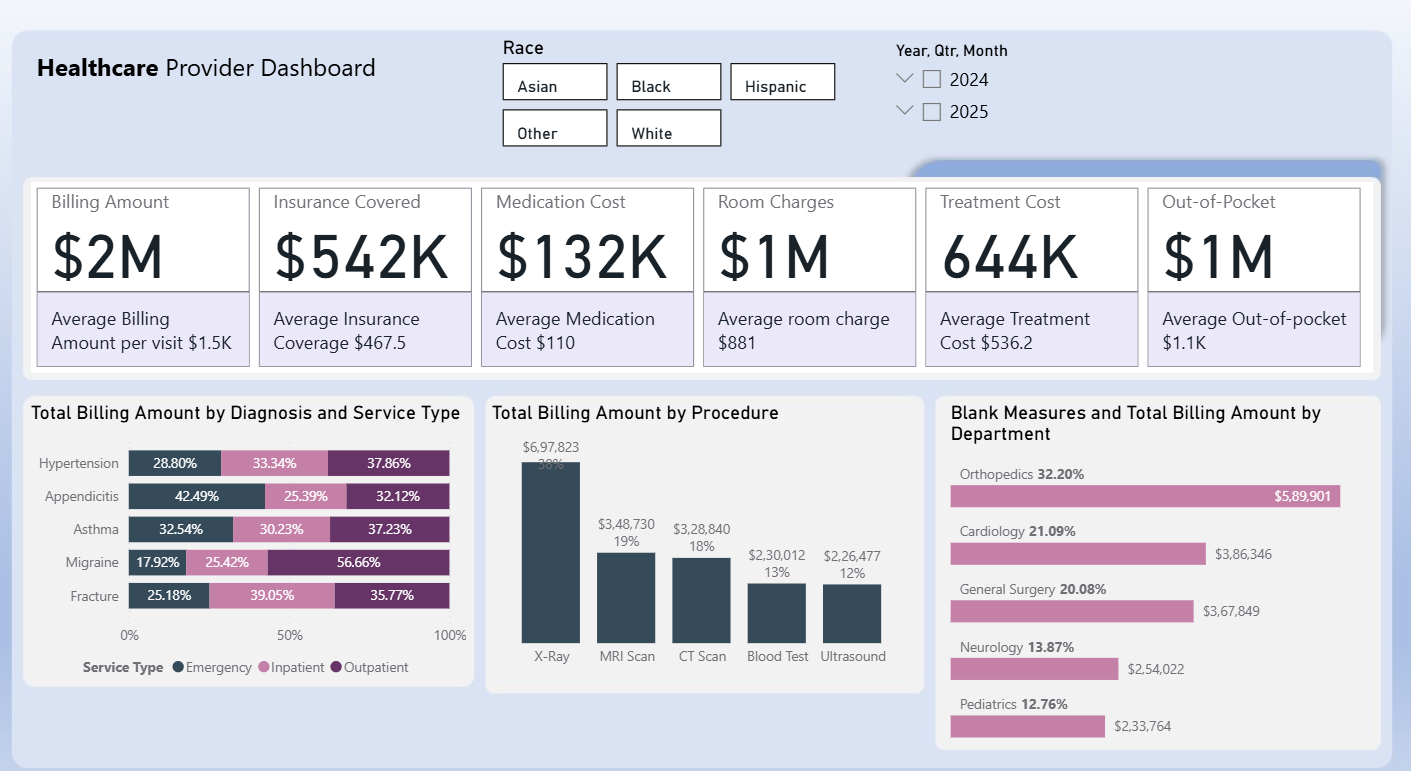

This screenshot's page, from the dashboard's own definition file:
{"tool":"powerbi","page":{"name":"Page 2","canvas":[1280,720],"ordinal":0},"visuals":[{"type":"cardVisual","fields":{"Data":["DAX Calculation.Total Billing Amount","DAX Calculation.Total Insurance Covered","DAX Calculation.Total Medication Cost","DAX Calculation.Total Room Charges","DAX Calculation.Total Treatment Cost","DAX Calculation.Out-of-Pocket"]},"box":[45.2,182.7,1190,169.4],"z":0},{"type":"clusteredColumnChart","fields":{"Category":["procedures.Procedure"],"Y":["DAX Calculation.Total Billing Amount"]},"box":[448.7,376.8,383.9,244.7],"z":1000},{"type":"hundredPercentStackedBarChart","fields":{"Y":["DAX Calculation.Total Billing Amount"],"Category":["diagnoses.Diagnosis"],"Series":["visits.Service Type"]},"box":[39.9,376.8,396.4,253.6],"z":2000},{"type":"clusteredBarChart","fields":{"Y":["DAX Calculation.Blank Measures","DAX Calculation.Total Billing Amount"],"Category":["departments.Department"]},"box":[855.7,376.8,379.5,305],"z":3000},{"type":"advancedSlicerVisual","fields":{"Values":["patients.Race"]},"box":[458.4,53.2,305.9,103.7],"z":4000},{"type":"slicer","fields":{"Values":["DateTable.Year","DateTable.Qtr","DateTable.Month"]},"box":[798.9,53.2,237.6,98.4],"z":5000},{"type":"textbox","box":[46,59,315.7,46.1],"z":6000}]}

Visuals, with their boxes in screenshot pixels (x1, y1, x2, y2), scaled from the page's 1280x720 canvas onto the 1411x771 screenshot:
cardVisual - DAX Calculation.Total Billing Amount x DAX Calculation.Total Insurance Covered: Rect(50, 196, 1362, 377)
clusteredColumnChart - procedures.Procedure x DAX Calculation.Total Billing Amount: Rect(495, 403, 918, 666)
hundredPercentStackedBarChart - DAX Calculation.Total Billing Amount x diagnoses.Diagnosis: Rect(44, 403, 481, 675)
clusteredBarChart - DAX Calculation.Blank Measures x DAX Calculation.Total Billing Amount: Rect(943, 403, 1362, 730)
advancedSlicerVisual - patients.Race: Rect(505, 57, 843, 168)
slicer - DateTable.Year x DateTable.Qtr: Rect(881, 57, 1143, 162)
textbox: Rect(51, 63, 399, 113)
